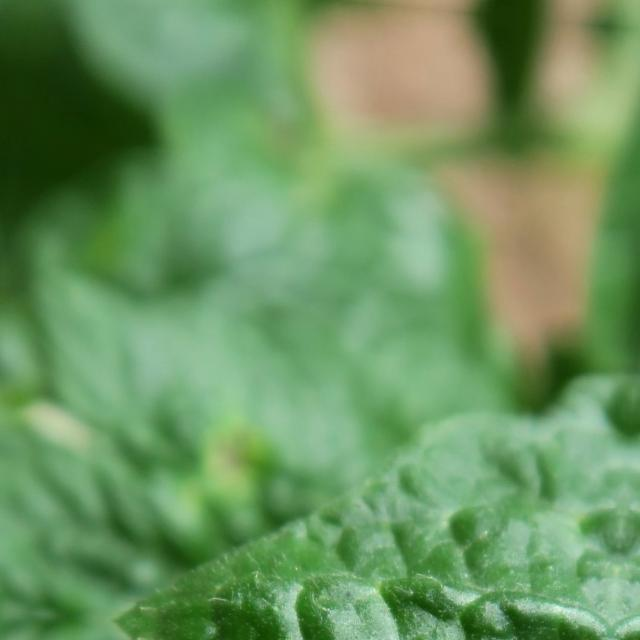Tomato leaf bacterial spot: (0, 362, 631, 640)
